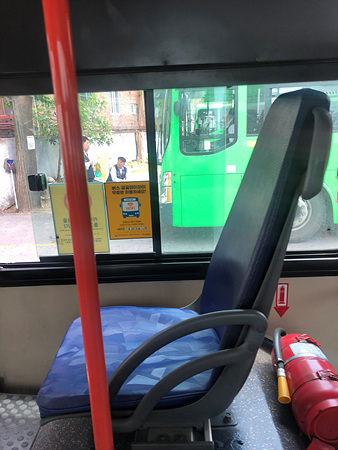seat: (38, 88, 321, 427)
